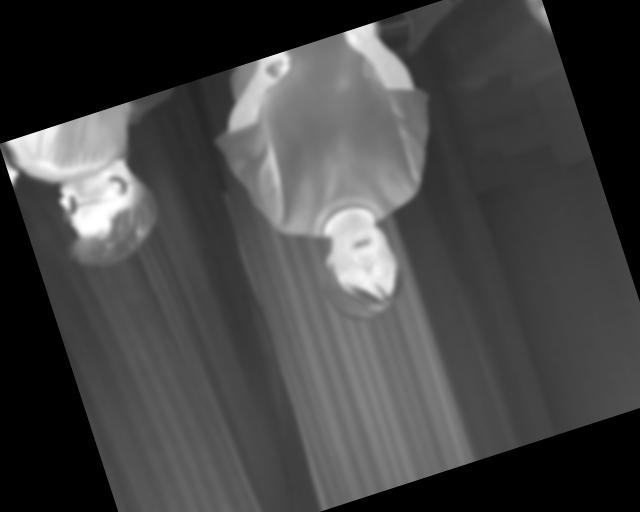face: (306, 210, 414, 329)
